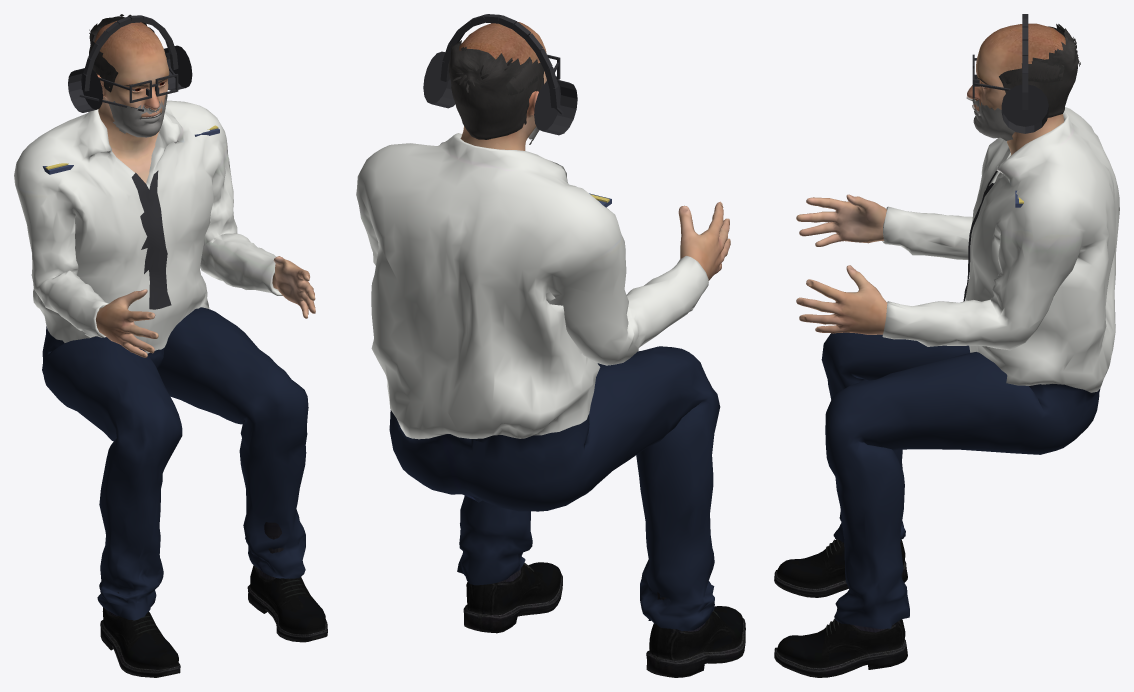
Rendered from duboc-seated.glb.
3 renders of one model, left to right at view 1: azimuth 30°, elevation 25°; view 2: azimuth 150°, elevation 25°; view 3: azimuth 270°, elevation 25°, orthographic. The views are drawn at different scales.
Parts seen in each view (by area): view 1: Human.male_pilotshirt01.001, Human.001, Human.shoes03.001, headset, tie, beard, Human.short01.001, glasses; view 2: Human.male_pilotshirt01.001, Human.shoes03.001, Human.short01.001, Human.001, headset; view 3: Human.male_pilotshirt01.001, Human.001, Human.shoes03.001, Human.short01.001, headset, beard.
Boxes of the visible parts, left/top/right/bottom form: Human.male_pilotshirt01.001: left=14, top=100, right=308, bottom=620; Human.001: left=94, top=21, right=315, bottom=357; Human.shoes03.001: left=100, top=522, right=327, bottom=677; headset: left=68, top=15, right=192, bottom=112; tie: left=131, top=170, right=171, bottom=309; beard: left=107, top=94, right=167, bottom=137; Human.short01.001: left=89, top=14, right=167, bottom=92; glasses: left=98, top=64, right=178, bottom=102; Human.male_pilotshirt01.001: left=356, top=133, right=720, bottom=631; Human.shoes03.001: left=463, top=562, right=745, bottom=677; Human.short01.001: left=448, top=40, right=544, bottom=139; Human.001: left=459, top=21, right=730, bottom=280; headset: left=423, top=14, right=577, bottom=135; Human.male_pilotshirt01.001: left=821, top=107, right=1119, bottom=628; Human.001: left=796, top=23, right=1065, bottom=334; Human.shoes03.001: left=774, top=539, right=907, bottom=677; Human.short01.001: left=999, top=24, right=1080, bottom=117; headset: left=1001, top=14, right=1048, bottom=133; beard: left=966, top=96, right=1014, bottom=140.
Bounding box in the file's own units: 0.595 × 1.54 × 0.7943.
12 materials, 6 textured.
